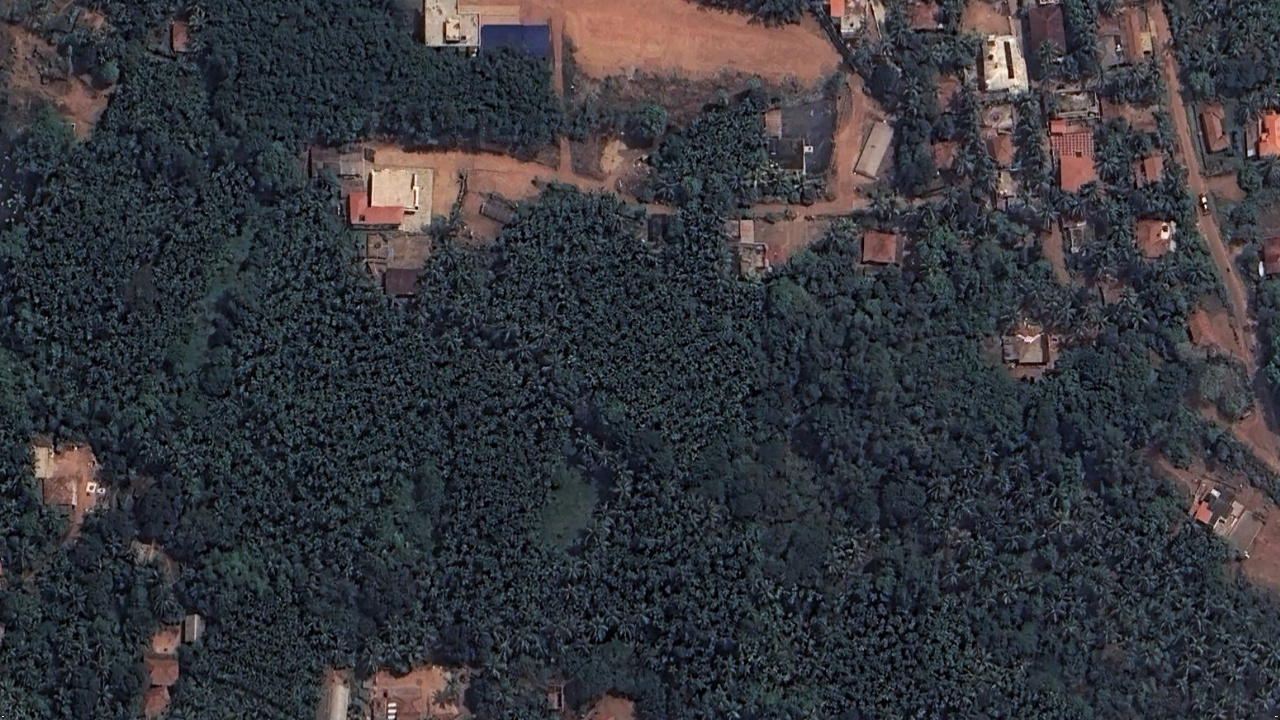arecanut: (231, 199, 953, 707)
